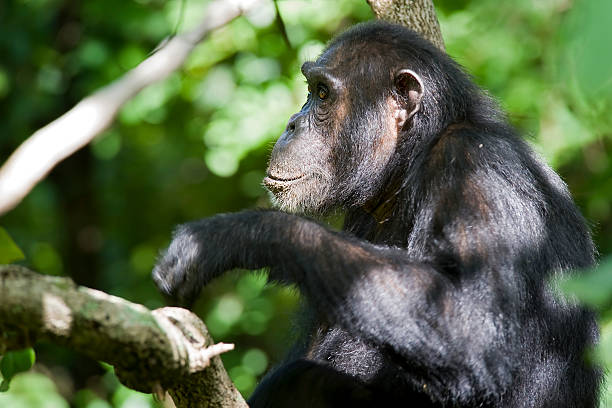chimpanzee: (251, 13, 480, 246)
